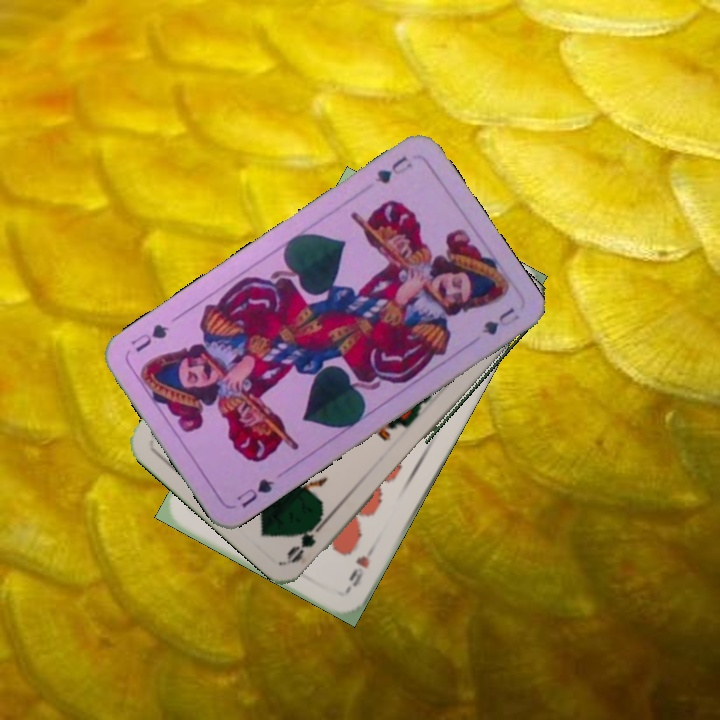GO: (282, 511, 331, 565)
GU: (232, 474, 277, 511), (370, 152, 415, 187)
H9: (342, 551, 372, 594)
